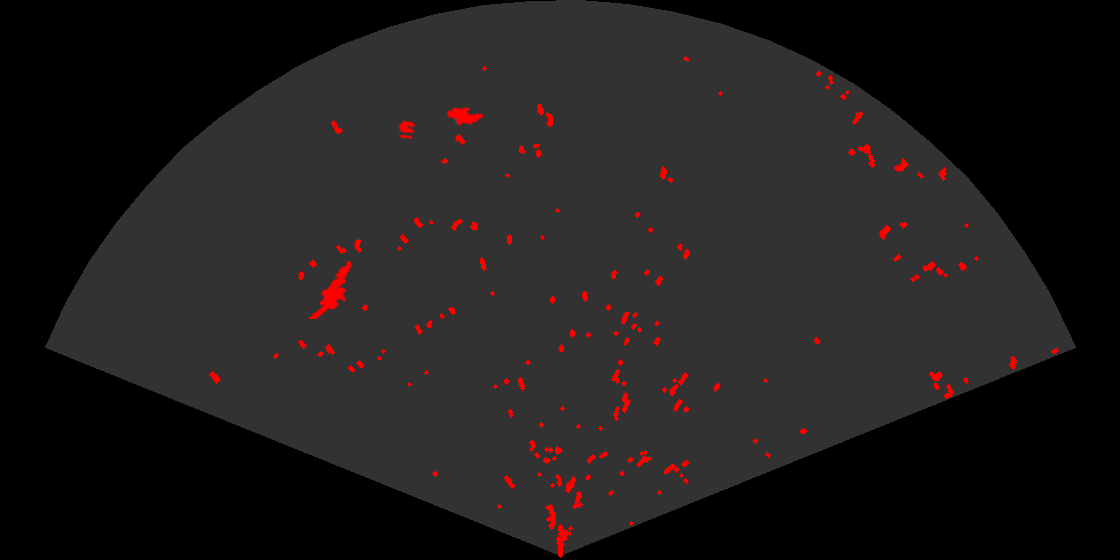AUV: (445, 106, 486, 127)
ball: (397, 119, 417, 141)
frogman: (307, 259, 354, 319)
